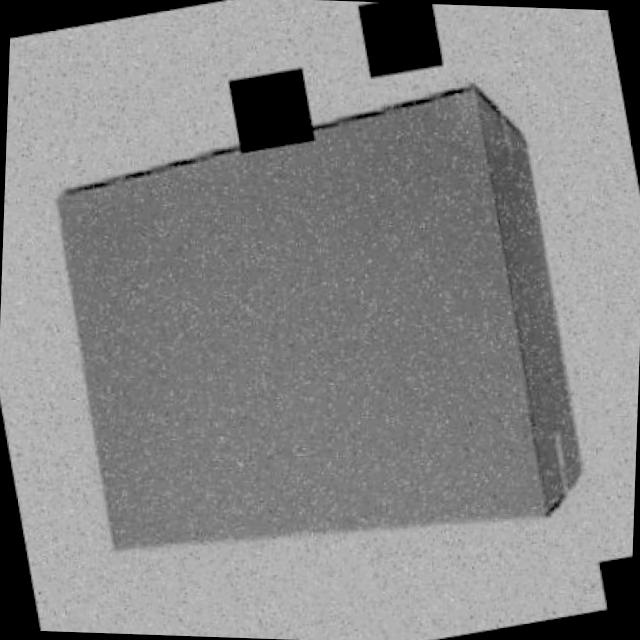box: (22, 48, 617, 616)
